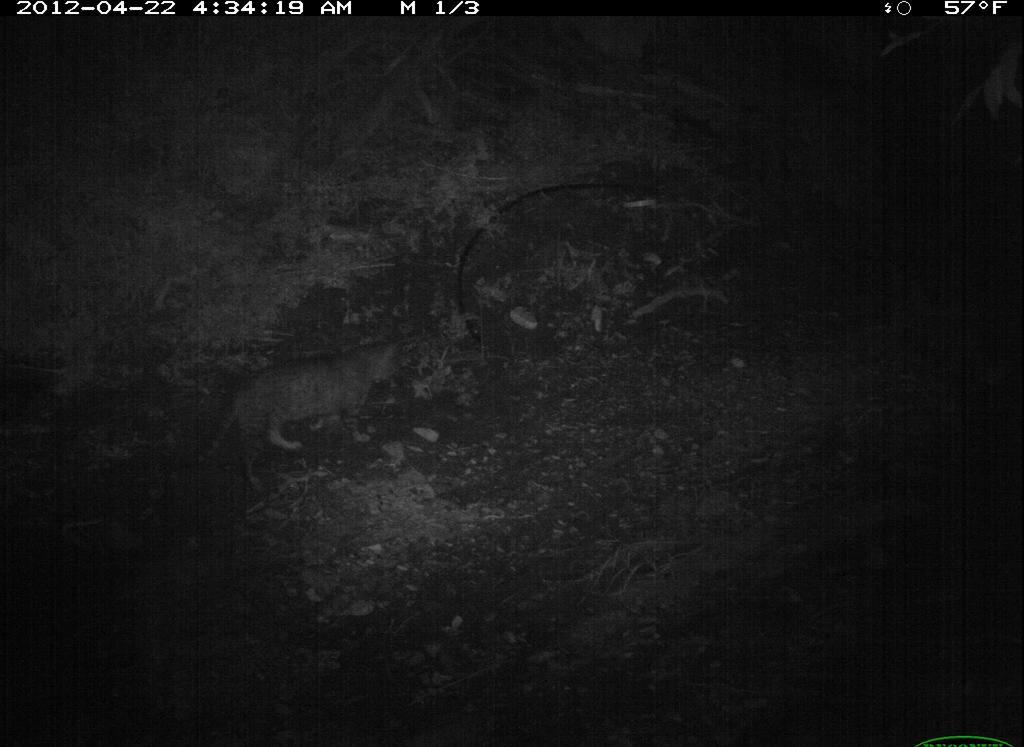cat: (176, 338, 413, 488)
